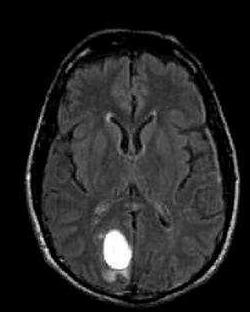Tumour-Meningioma: (82, 213, 146, 285)
